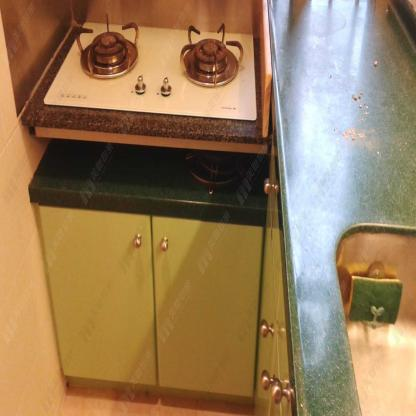Cupboard: (36, 202, 266, 410)
Stove: (17, 8, 270, 153)
